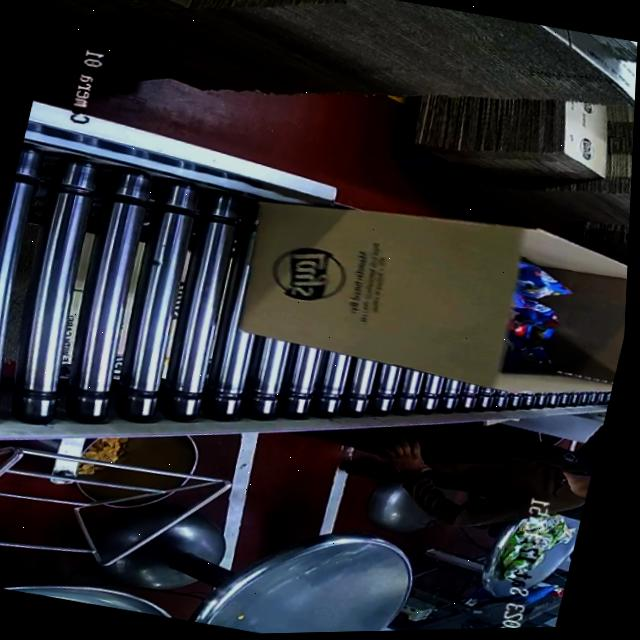PAPRIKA: (505, 257, 584, 379)
